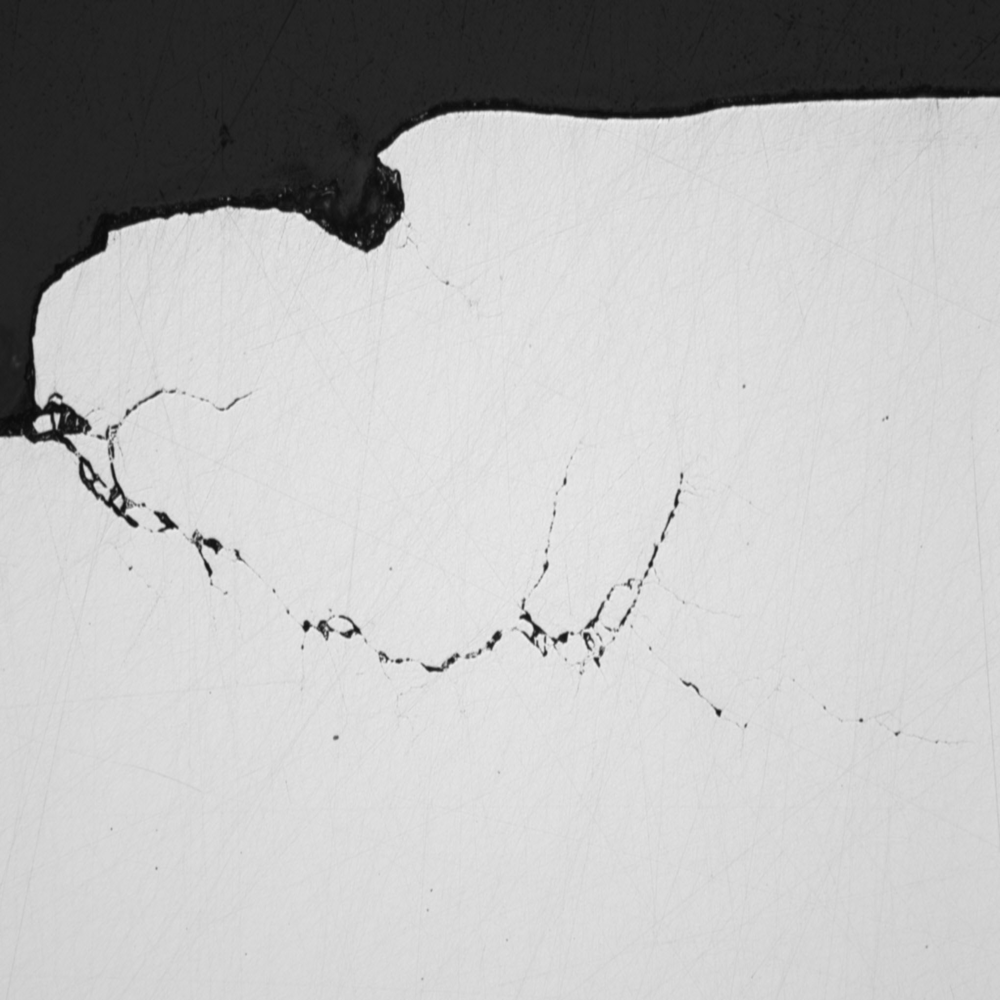crack: (1, 354, 760, 751)
